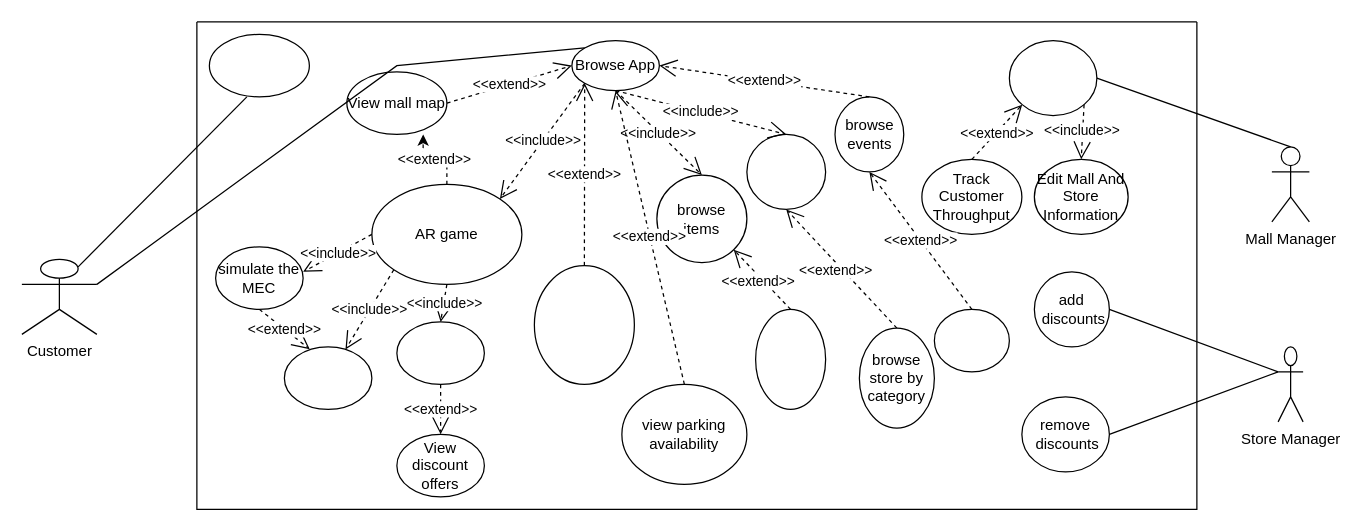
The diagram is 1361 pixels wide and 531 high, and some of its shapes have lost their labels. The centre of each missing label's shape, as x and y in pixels:
"browse on sale/ offers" belongs at (x=790, y=358).
"browse Stores" belongs at (x=786, y=171).
"browse Trending Events" belongs at (x=971, y=340).
"Catch prize" belongs at (x=327, y=377).
"Get Store/item Recommendations" belongs at (x=583, y=324).
"Manage Mall" belongs at (x=1052, y=77).
"Redeem prize" belongs at (x=440, y=352).
"Register Account" belongs at (x=258, y=65).
